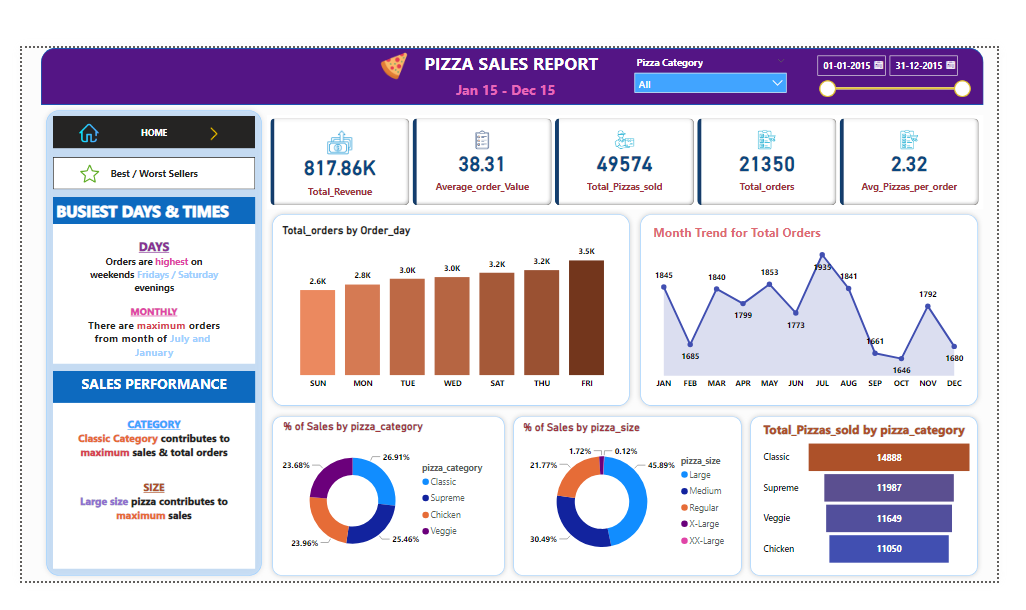

This screenshot's page, from the dashboard's own definition file:
{"tool":"powerbi","page":{"name":"HOME","canvas":[1500,820],"ordinal":0},"visuals":[{"type":"shape","box":[29.2,87.7,347.7,732.3],"z":0},{"type":"cardVisual","fields":{"Data":["pizza_sales.Total_Revenue","pizza_sales.Average_order_Value","pizza_sales.Total_Pizzas_sold","pizza_sales.Total_orders","pizza_sales.Avg_Pizzas_per_order"]},"box":[376.8,103.6,1101.8,144.6],"z":1000},{"type":"shape","box":[28.6,0,1450,87.5],"z":2000},{"type":"textbox","box":[553.6,0,398.2,57.1],"z":3000},{"type":"textbox","box":[626.8,44.6,235.7,42.9],"z":4000},{"type":"image","box":[532.1,1.8,78.6,51.8],"z":5000},{"type":"shape","box":[376.8,248.2,566.1,310.7],"z":6000},{"type":"columnChart","fields":{"Category":["pizza_sales.Order_day"],"Y":["pizza_sales.Total_orders"]},"box":[394.6,271.4,533.9,262.5],"z":7000},{"type":"shape","box":[942.9,248.2,535.7,310.7],"z":8000},{"type":"areaChart","title":"Month Trend for Total Orders","fields":{"Category":["pizza_sales.Order_month"],"Y":["pizza_sales.Total_orders"]},"box":[966.1,271.4,489.3,262.5],"z":9000},{"type":"shape","box":[376.9,558.5,373.8,261.5],"z":10000},{"type":"shape","box":[1112.3,558.5,366.2,261.5],"z":11000},{"type":"shape","box":[747.7,558.5,367.7,261.5],"z":12000},{"type":"donutChart","title":"% of Sales by pizza_category","fields":{"Category":["pizza_sales.pizza_category"],"Y":["pizza_sales.Total_Revenue"]},"box":[396.9,572.3,332.3,229.2],"z":13000},{"type":"donutChart","title":"% of Sales by pizza_size","fields":{"Category":["pizza_sales.pizza_size"],"Y":["pizza_sales.Total_Revenue"]},"box":[766.2,573.8,332.3,229.2],"z":14000},{"type":"funnel","fields":{"Category":["pizza_sales.pizza_category"],"Y":["pizza_sales.Total_Pizzas_sold"]},"box":[1135.4,573.8,332.3,227.7],"z":15000},{"type":"textbox","box":[47.7,229.2,310.8,41.5],"z":16000},{"type":"textbox","box":[47.7,270.8,310.8,215.4],"z":17000},{"type":"textbox","box":[47.7,496.9,310.8,49.2],"z":18000},{"type":"textbox","box":[47.7,546.2,310.8,255.4],"z":19000},{"type":"slicer","fields":{"Values":["pizza_sales.pizza_category"]},"box":[932.3,6.2,253.8,76.9],"z":20000},{"type":"slicer","fields":{"Values":["pizza_sales.order_date"]},"box":[1210.8,1.5,256.9,81.5],"z":21000},{"type":"pageNavigator","box":[48,104,311,50],"z":22000},{"type":"pageNavigator","box":[48,168,311,50],"z":23000},{"type":"image","box":[275,117,40,30],"z":24000},{"type":"image","box":[83,108,40,46],"z":25000},{"type":"image","box":[84,168,39,50],"z":26000}]}

Visuals, with their boxes on the page's 1500x820 design canvas (x1, y1, x2, y2). These are canvas units, not pixel positions in the 1026x610 screenshot, which may show the page scaled, cropped or inside an application window:
shape: select_region(29, 88, 377, 820)
cardVisual - pizza_sales.Total_Revenue x pizza_sales.Average_order_Value: select_region(377, 104, 1479, 248)
shape: select_region(29, 0, 1479, 88)
textbox: select_region(554, 0, 952, 57)
textbox: select_region(627, 45, 862, 88)
image: select_region(532, 2, 611, 54)
shape: select_region(377, 248, 943, 559)
columnChart - pizza_sales.Order_day x pizza_sales.Total_orders: select_region(395, 271, 928, 534)
shape: select_region(943, 248, 1479, 559)
"Month Trend for Total Orders" areaChart: select_region(966, 271, 1455, 534)
shape: select_region(377, 558, 751, 820)
shape: select_region(1112, 558, 1478, 820)
shape: select_region(748, 558, 1115, 820)
"% of Sales by pizza_category" donutChart: select_region(397, 572, 729, 802)
"% of Sales by pizza_size" donutChart: select_region(766, 574, 1098, 803)
funnel - pizza_sales.pizza_category x pizza_sales.Total_Pizzas_sold: select_region(1135, 574, 1468, 802)
textbox: select_region(48, 229, 358, 271)
textbox: select_region(48, 271, 358, 486)
textbox: select_region(48, 497, 358, 546)
textbox: select_region(48, 546, 358, 802)
slicer - pizza_sales.pizza_category: select_region(932, 6, 1186, 83)
slicer - pizza_sales.order_date: select_region(1211, 2, 1468, 83)
pageNavigator: select_region(48, 104, 359, 154)
pageNavigator: select_region(48, 168, 359, 218)
image: select_region(275, 117, 315, 147)
image: select_region(83, 108, 123, 154)
image: select_region(84, 168, 123, 218)
